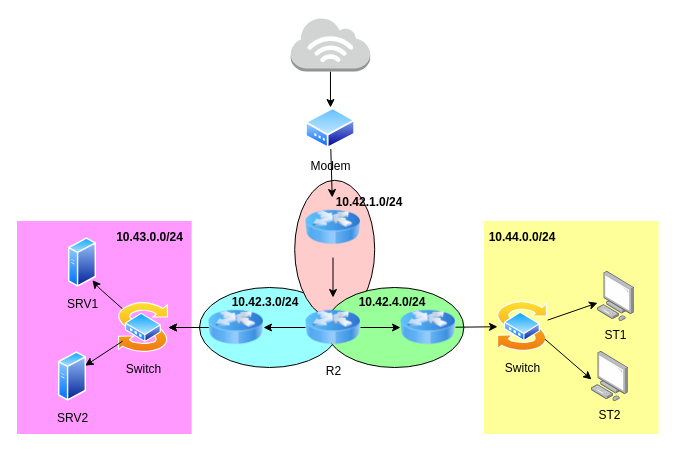
The diagram is 676 pixels wide and 451 high, and some of its shapes have lost their labels. Each missing label, with the box of its shape:
Internet: (290, 16, 370, 72)
R1: (305, 197, 360, 257)
R3: (208, 297, 263, 357)
R4: (400, 297, 455, 357)
